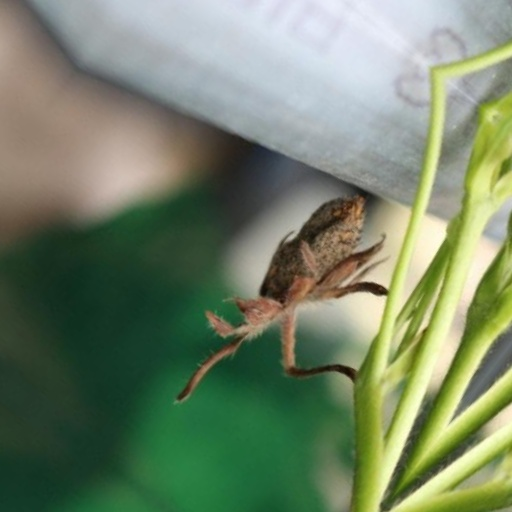Gray Mold: (248, 91, 394, 368)
